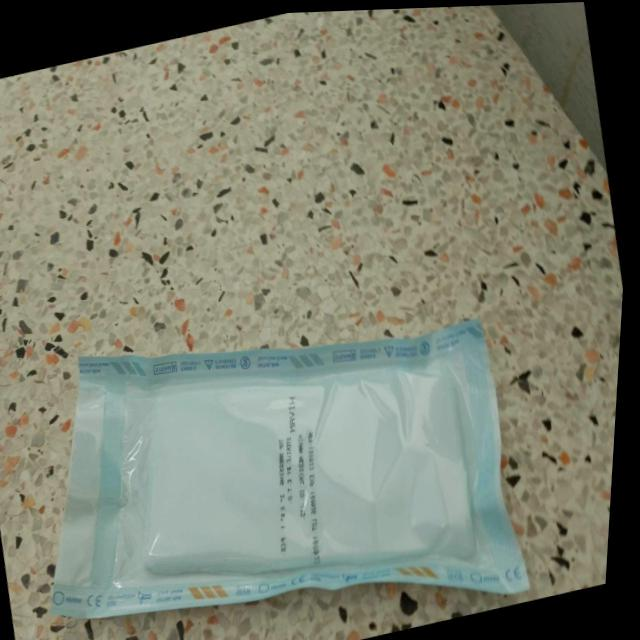Infectious: (51, 317, 531, 619)
Sharps: (176, 619, 189, 639)
